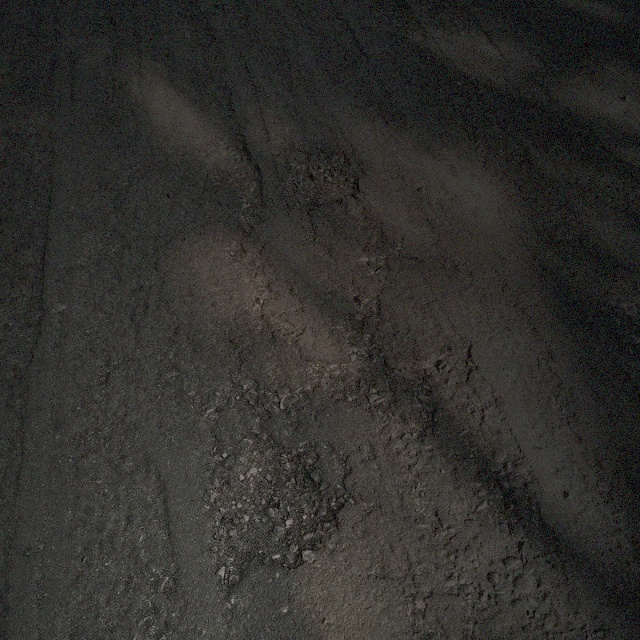pothole: (196, 439, 346, 589), (281, 141, 363, 209), (365, 0, 424, 36), (81, 13, 119, 36)
